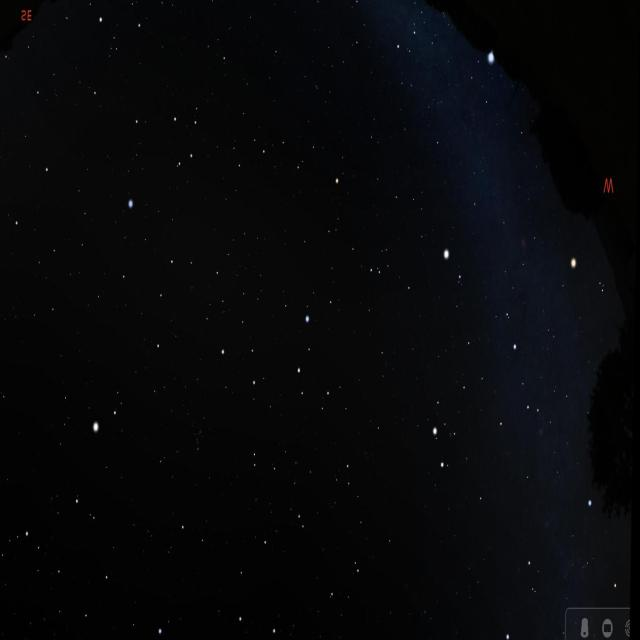bootes: (44, 397, 130, 640)
canis_minor: (435, 235, 471, 298)
gemini: (432, 326, 542, 484)
leo: (216, 291, 342, 410)
